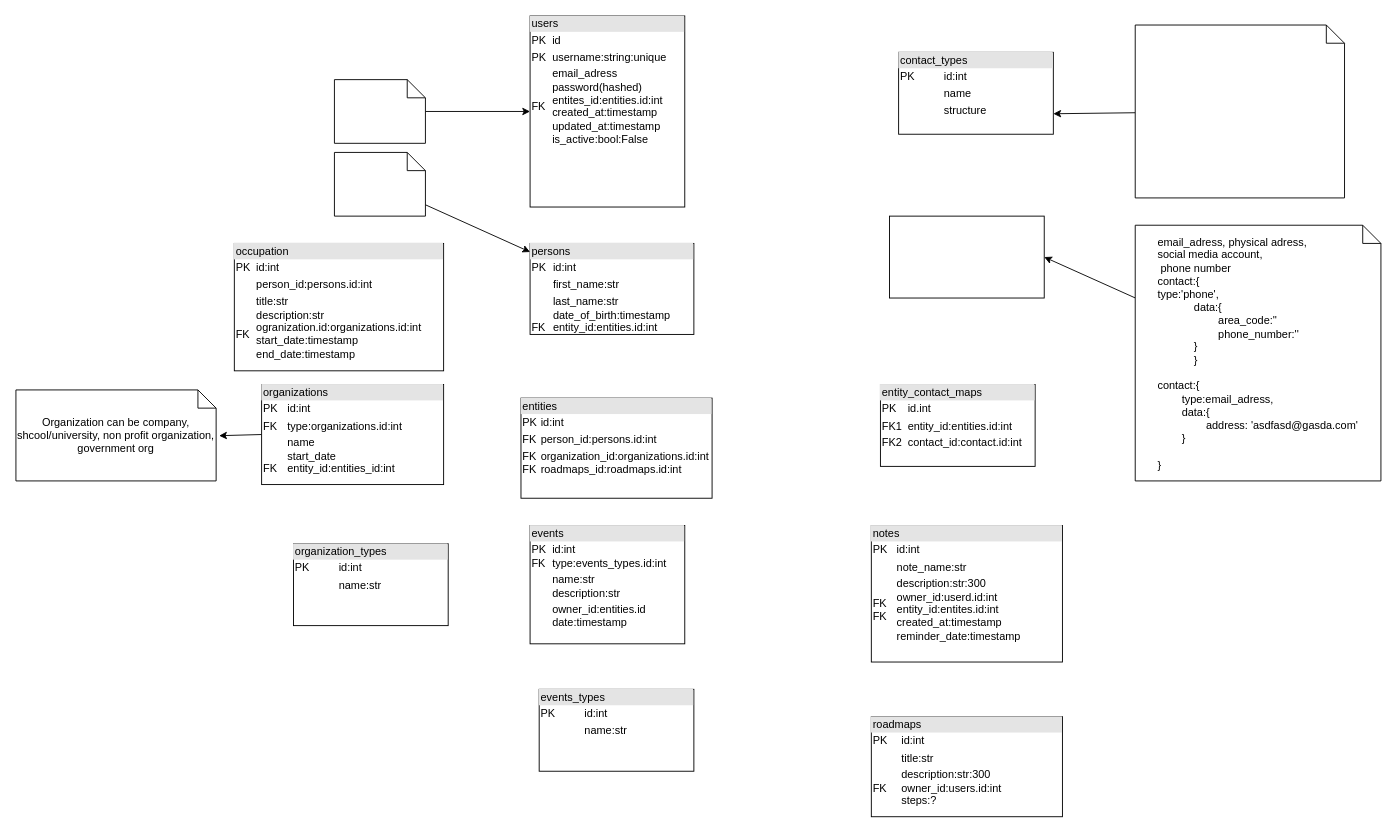
This 1397x833 diagram has some shape labels left out. The centre of each missing label's shape, as x and y in pixels:
"Can be a contact, can be a user" belongs at pixel 379 184.
"contact PK id FK1 type value:json string" belongs at pixel 966 256.
"platform user account information" belongs at pixel 379 111.
"update and create tpye contact types on the fly in system" belongs at pixel 1239 111.
